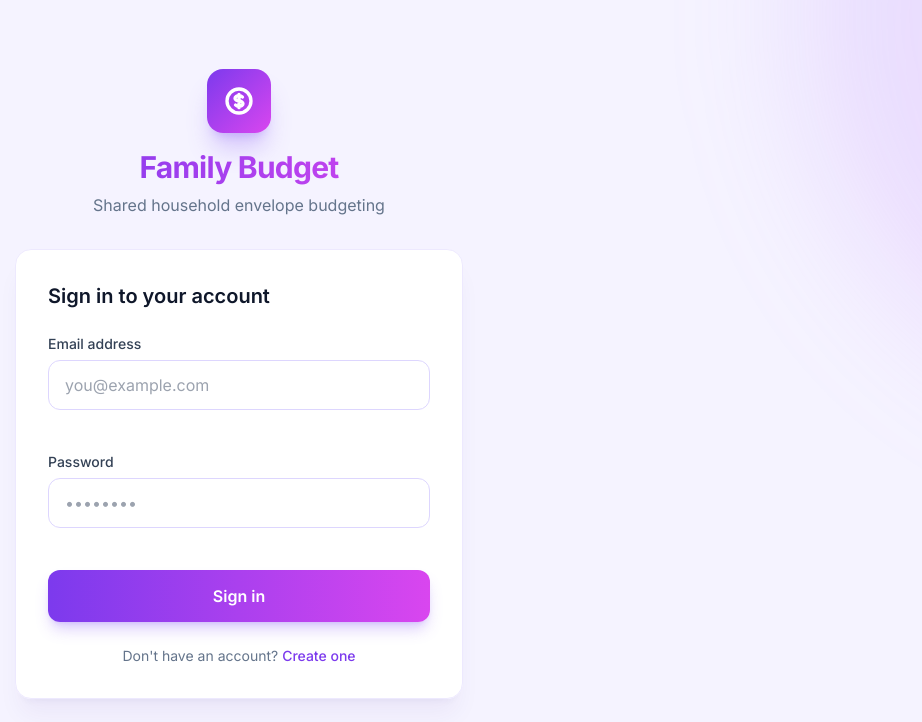
Test case: LoginPageComponent › validates malformed email and passwords shorter than eight characters
The image size is (922, 722).
Step 1. Type "not-an-email" into the field with id "login-email" → (239, 385), box top-left (48, 360), bottom-right (430, 410)
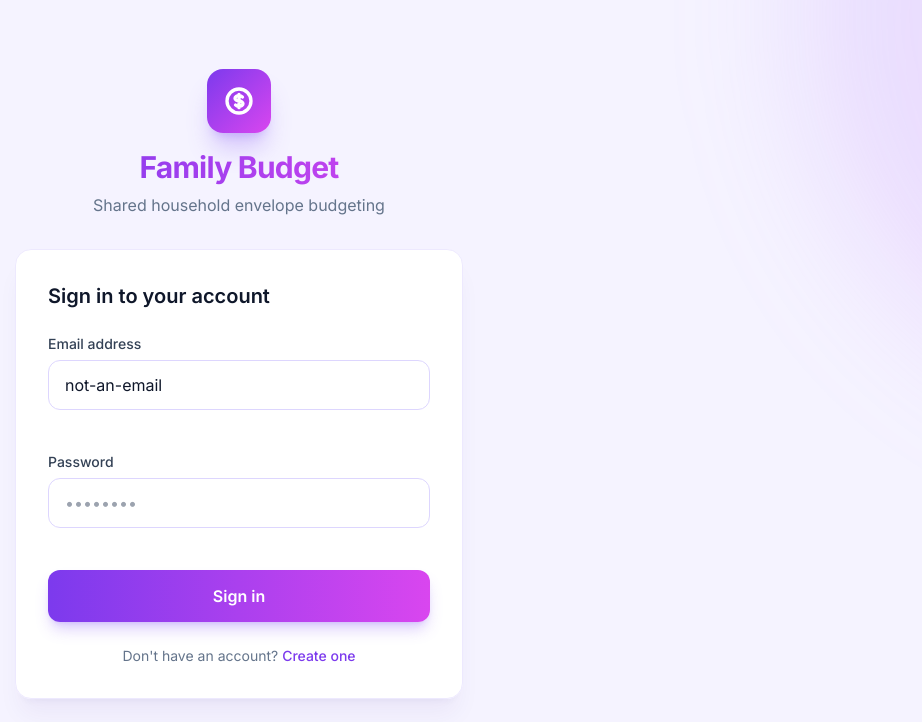
Step 2. Type "short" into the password field with id "login-password" → (239, 503), box top-left (48, 478), bottom-right (430, 528)
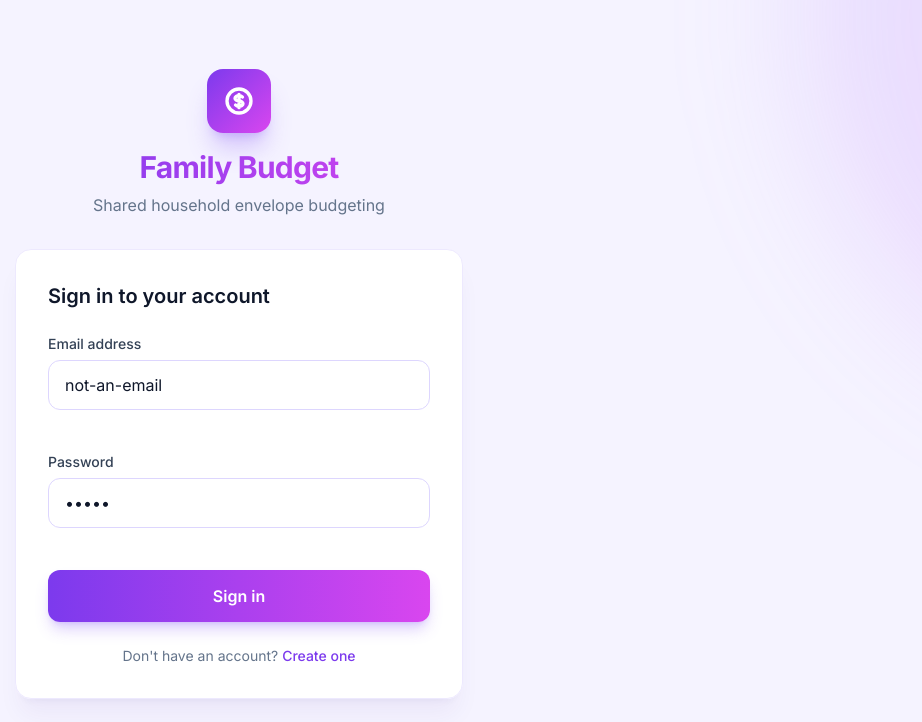
Step 3. Click the submit button → (239, 596), box top-left (48, 570), bottom-right (430, 622)
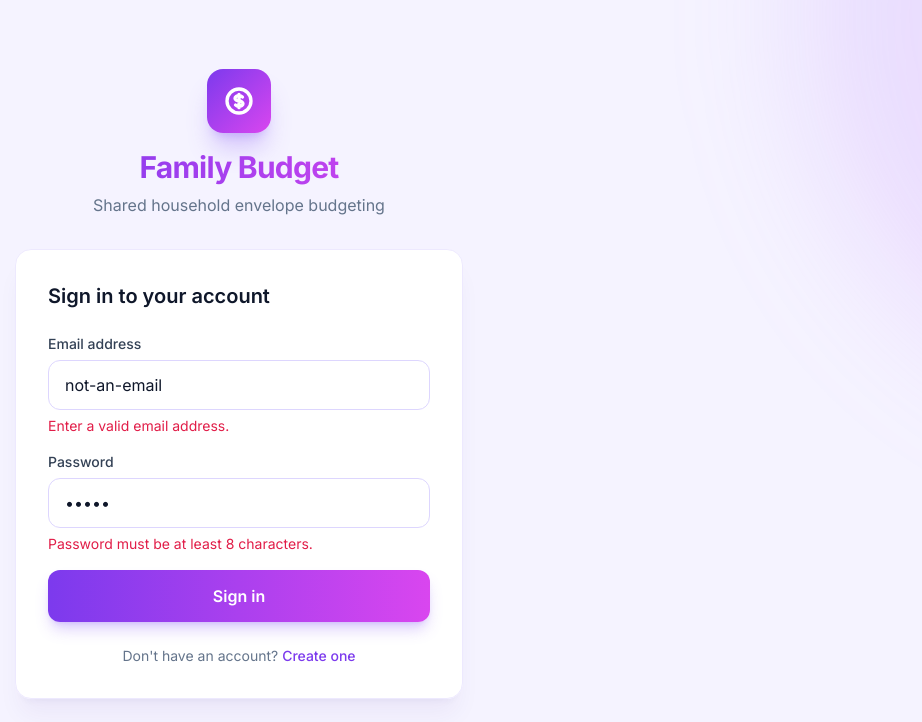
Expected: the text "Enter a valid email address." is shown, top-left (48, 417), bottom-right (229, 434)
Expected: the text "Password must be at least 8 characters." is shown, top-left (48, 535), bottom-right (313, 552)
